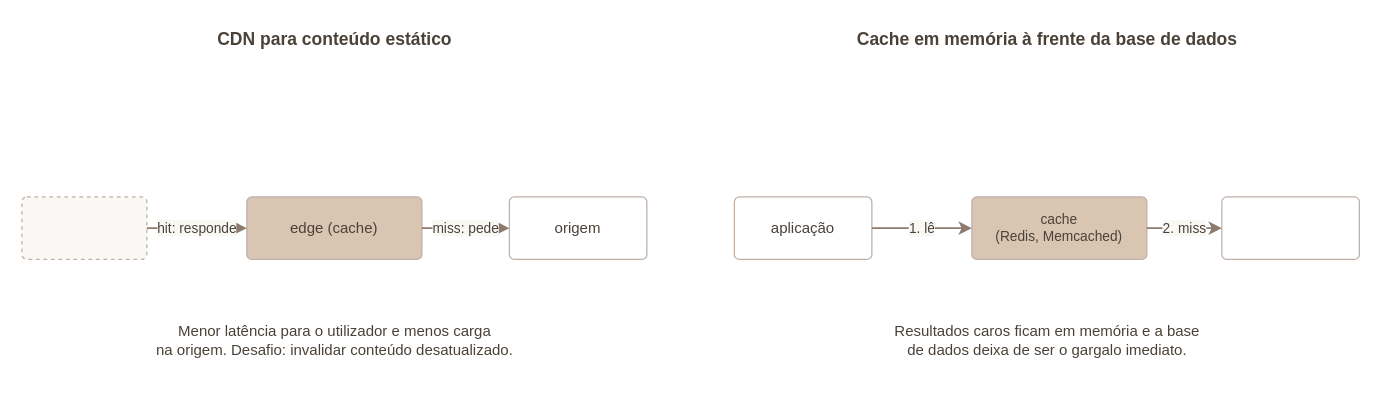
This 1381x405 diagram has some shape labels left out. Each missing label, with the box of its shape:
base de dados: (1221, 196, 1359, 259)
utilizador: (21, 196, 147, 259)
